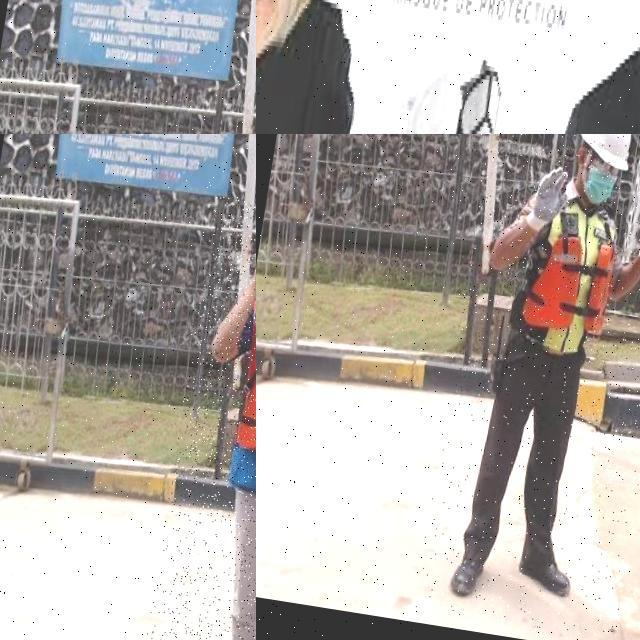boots: (511, 546, 578, 606), (446, 546, 492, 604)
helmet: (571, 134, 640, 183)
vest: (504, 193, 628, 367), (225, 291, 256, 503)
